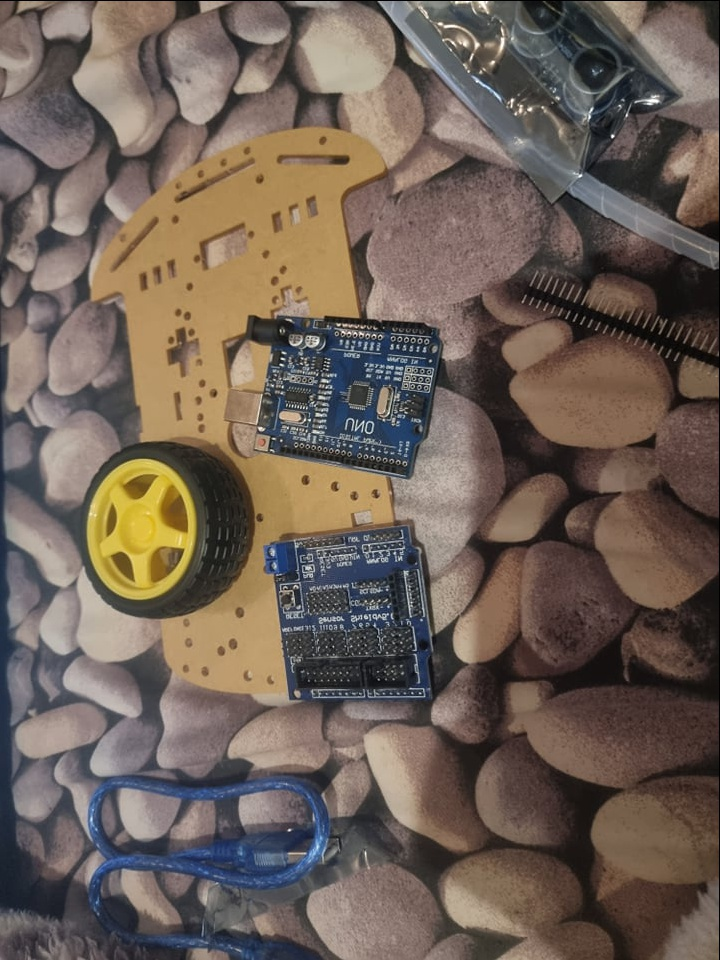5V EXPANSION: (264, 518, 428, 702)
SENSOR: (495, 0, 633, 122)
UNO R3: (227, 314, 446, 481)
